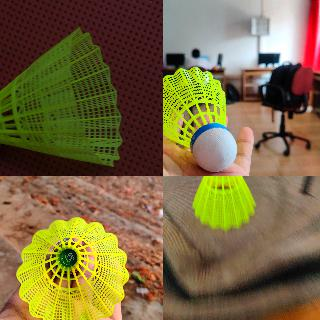shuttlecock: (0, 27, 121, 168), (16, 216, 130, 319), (163, 66, 237, 174), (191, 176, 258, 231)
